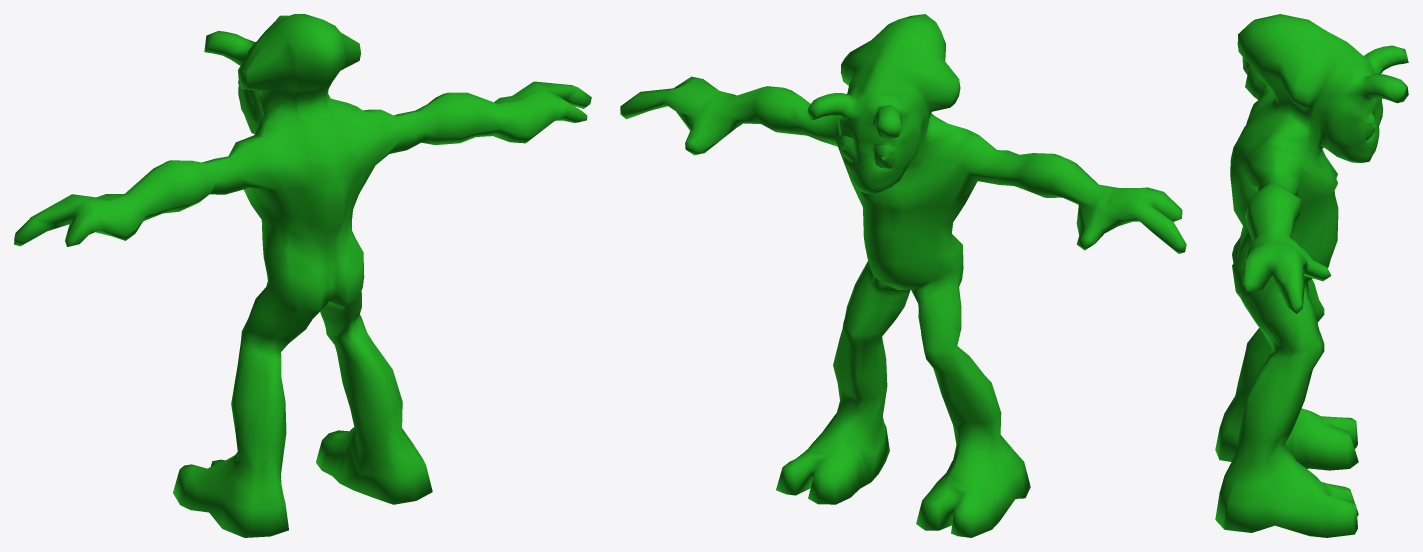
The model's file is Alien1.DAE.
3 renders of one model, left to right at view 1: azimuth 30°, elevation 25°; view 2: azimuth 150°, elevation 25°; view 3: azimuth 270°, elevation 25°, orthographic.
Visible parts, largest first — view 1: Plan01_PIVOT; view 2: Plan01_PIVOT; view 3: Plan01_PIVOT.
Boxes of the visible parts, x1=… form: Plan01_PIVOT: x1=14, y1=14, x2=591, y2=537; Plan01_PIVOT: x1=620, y1=14, x2=1186, y2=537; Plan01_PIVOT: x1=1215, y1=14, x2=1408, y2=537.
Size of the model in its own units: 22.27 by 6.56 by 17.64.
